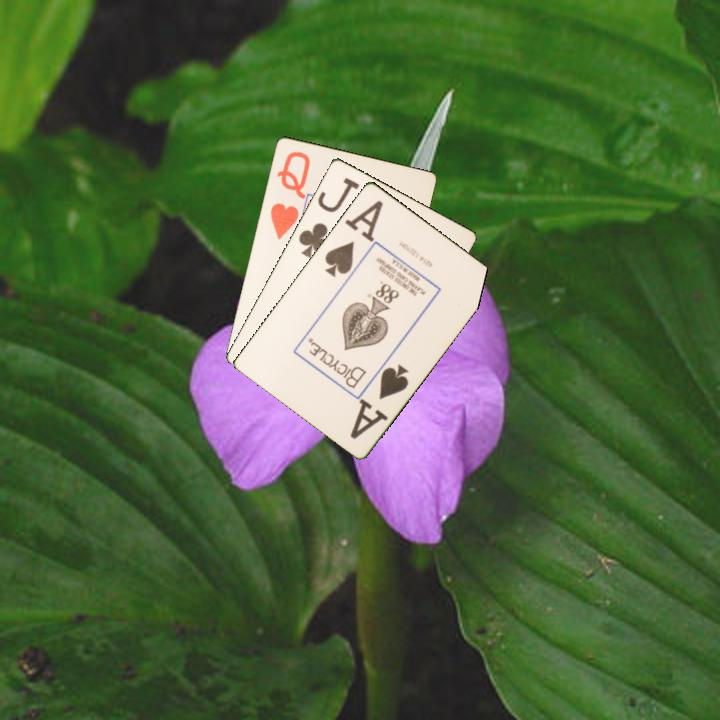As: (346, 360, 412, 442), (321, 204, 379, 279)
Jc: (295, 173, 362, 261)
Qh: (266, 147, 313, 242)
